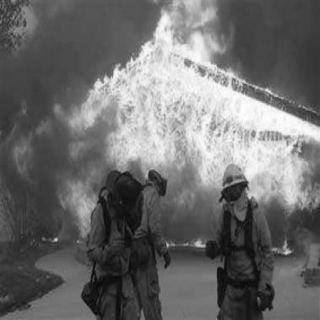Fire: (84, 6, 316, 162), (252, 157, 318, 211), (54, 157, 98, 235), (166, 233, 207, 251)
Smoke: (235, 12, 309, 80), (91, 12, 133, 56)
